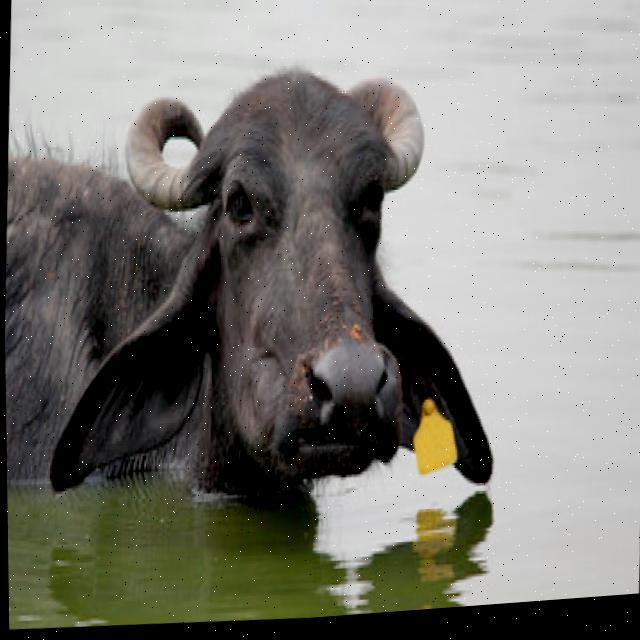Buffalo: (1, 34, 508, 539)
